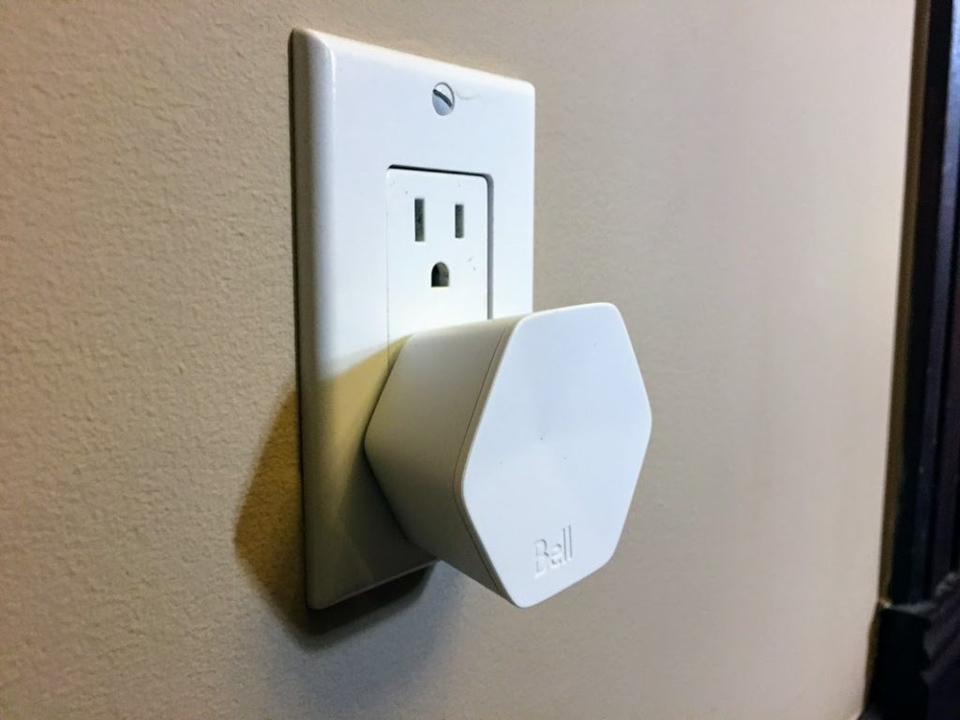pod: (360, 297, 659, 613)
